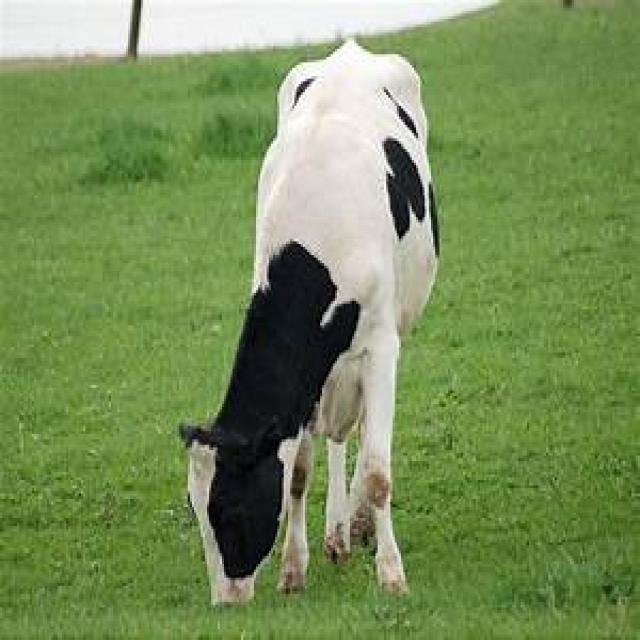cow: (177, 35, 440, 608)
